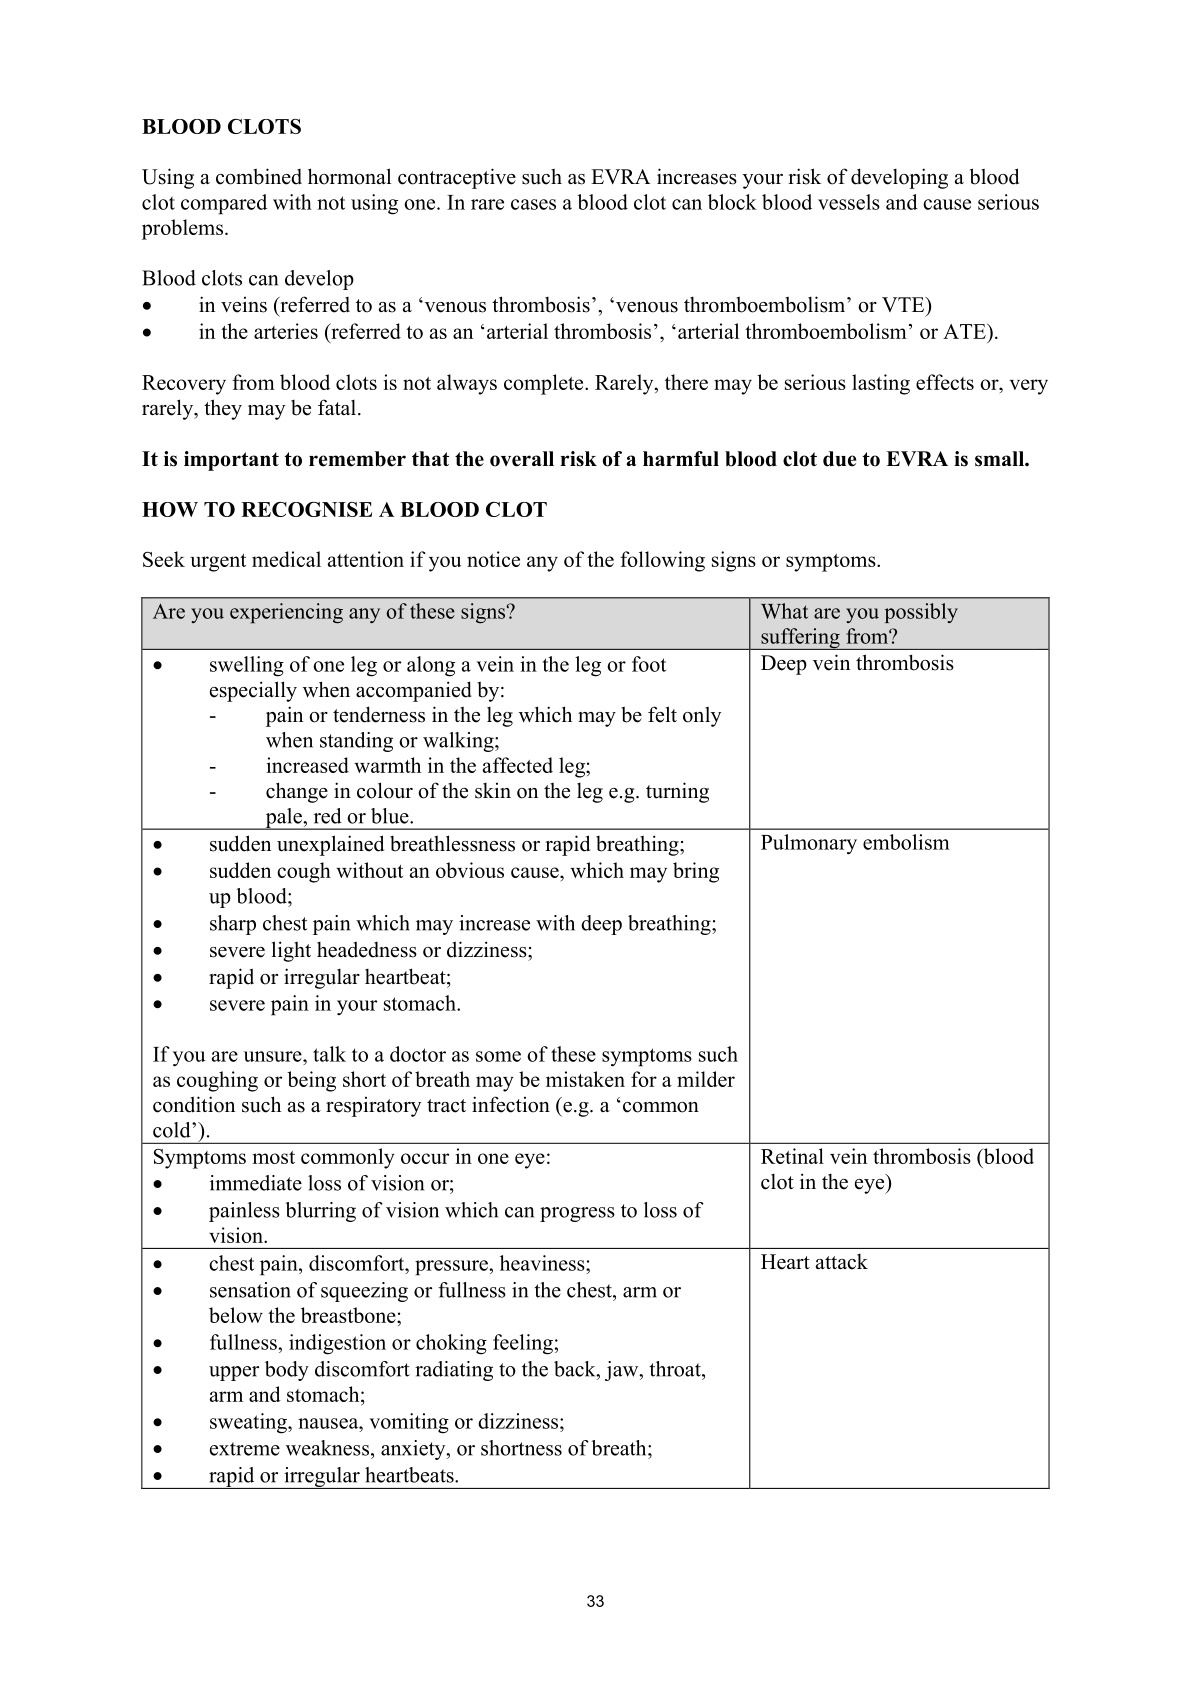full_lined: (140, 595, 1051, 1489)
